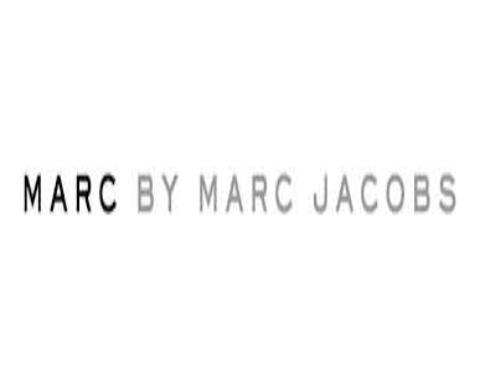MARC-JACOBS: (22, 161, 480, 246)
